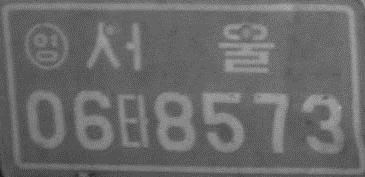0: (25, 87, 67, 151)
3: (302, 92, 345, 156)
5: (201, 90, 246, 153)
6: (71, 88, 115, 152)
7: (251, 91, 291, 154)
8: (152, 90, 195, 153)
서울_D: (84, 20, 276, 74)
영: (23, 21, 69, 72)
타: (116, 92, 151, 150)
